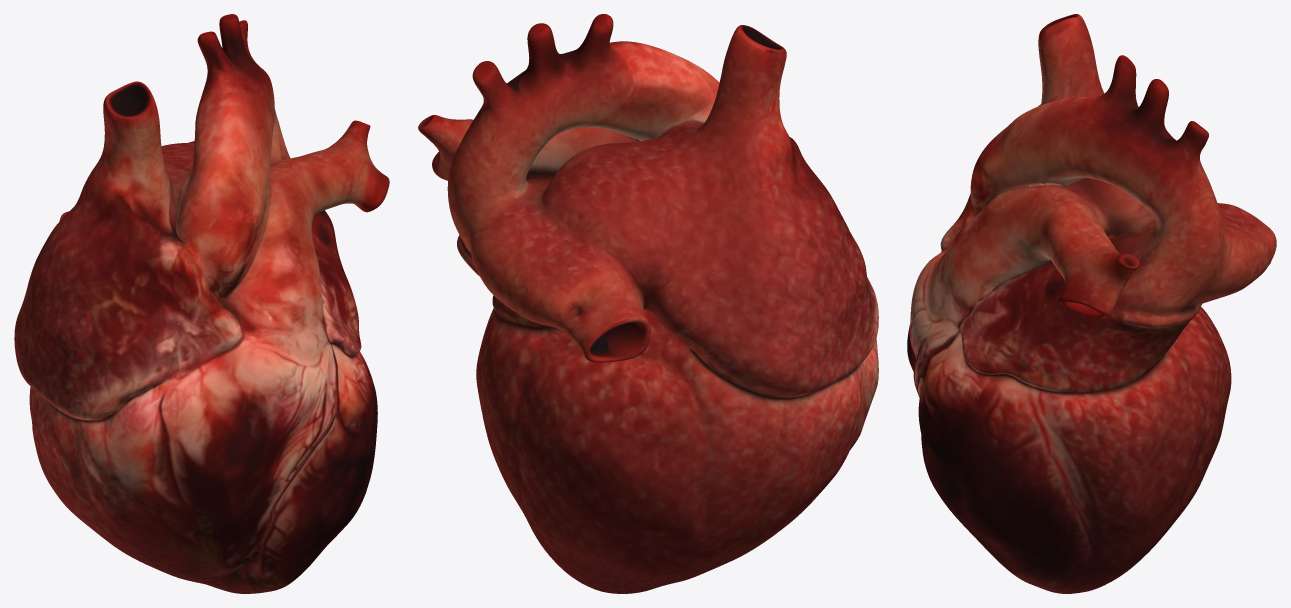
The model's file is Meshy_AI_Anatomical_Heart_0921131925_texture.obj.
3 views of the same model, side by side, from view 1: azimuth 30°, elevation 25°; view 2: azimuth 150°, elevation 25°; view 3: azimuth 270°, elevation 25° (orthographic). The views are drawn at different scales.
Parts seen in each view (by area): view 1: Meshy_AI_Anatomical_Heart_0921131925_texture; view 2: Meshy_AI_Anatomical_Heart_0921131925_texture; view 3: Meshy_AI_Anatomical_Heart_0921131925_texture.
Part boxes in pixels (x1=…): Meshy_AI_Anatomical_Heart_0921131925_texture: x1=14, y1=14, x2=389, y2=593; Meshy_AI_Anatomical_Heart_0921131925_texture: x1=418, y1=14, x2=878, y2=593; Meshy_AI_Anatomical_Heart_0921131925_texture: x1=907, y1=14, x2=1276, y2=593.
Bounding box in the file's own units: 1.33 × 1.9 × 1.21.
Materials: 1 (1 with a texture image).
